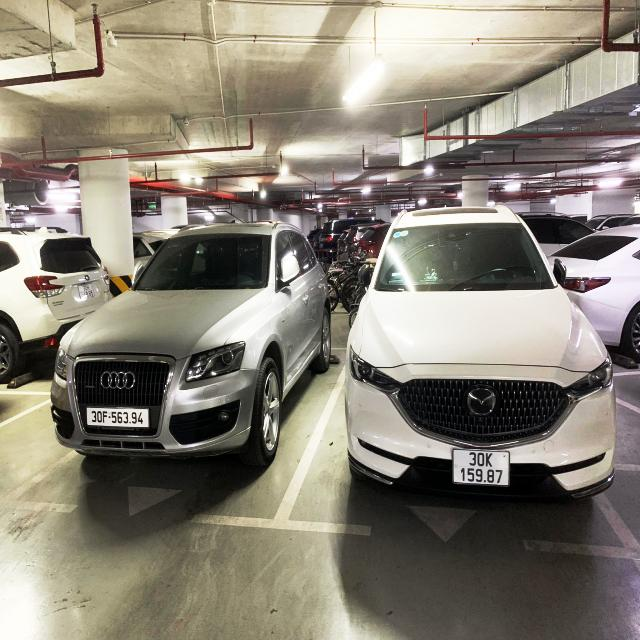license_plate: (454, 450, 512, 485), (86, 406, 150, 429)
